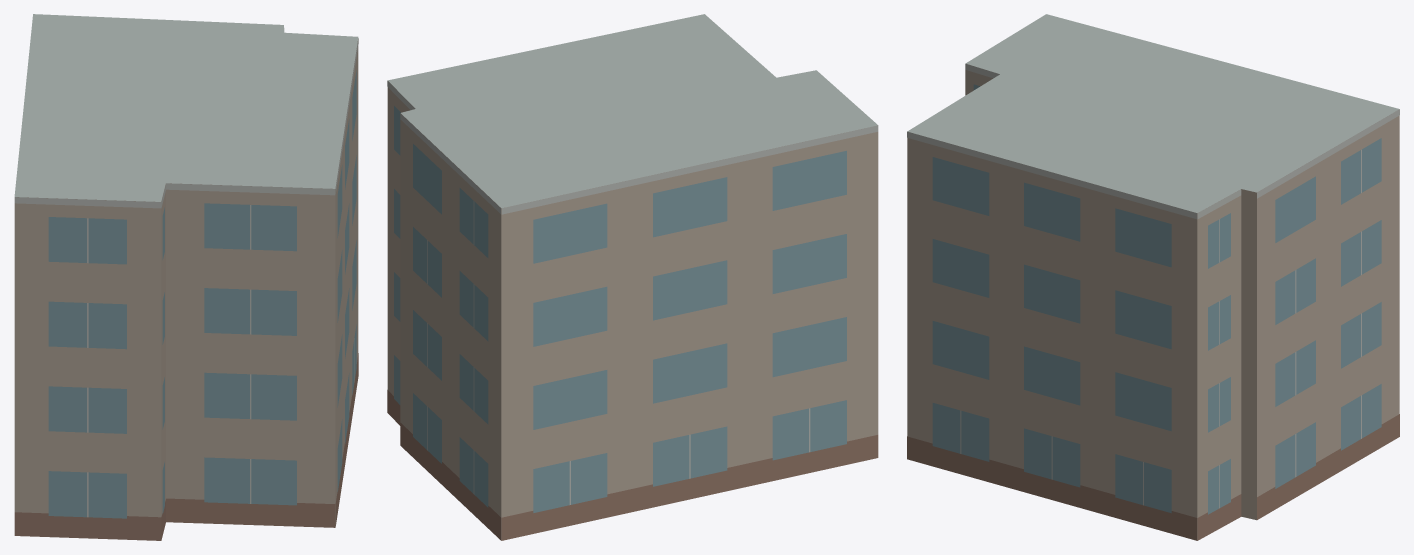
The model's file is survey-upis-32995723.glb.
The picture shows the model from 3 angles, left to right: view 1: azimuth 30°, elevation 25°; view 2: azimuth 150°, elevation 25°; view 3: azimuth 270°, elevation 25°; orthographic projection. The views are drawn at different scales.
Visible parts, largest first — view 1: survey-upis-32995723.tmp; view 2: survey-upis-32995723.tmp; view 3: survey-upis-32995723.tmp.
Part boxes in pixels (bbox=[...]): survey-upis-32995723.tmp: bbox=[14, 14, 358, 540]; survey-upis-32995723.tmp: bbox=[387, 14, 878, 540]; survey-upis-32995723.tmp: bbox=[907, 14, 1399, 540].
Bounding box in the file's own units: 16.69 × 12.8 × 17.45.
